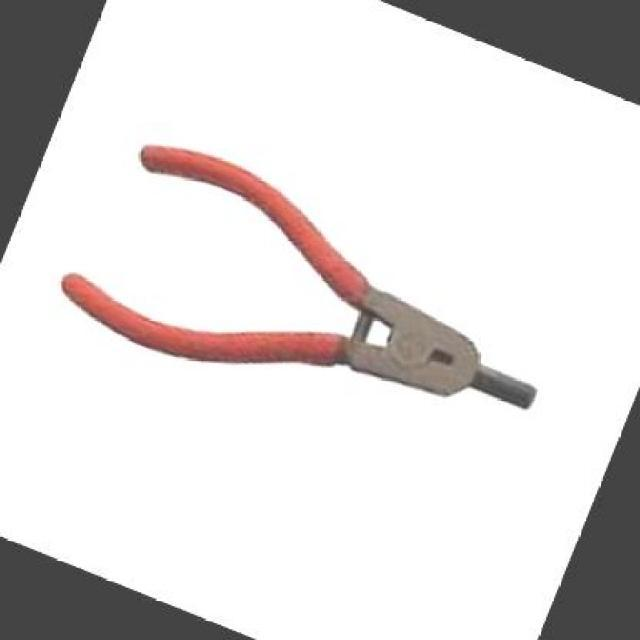pliers: (32, 103, 610, 534)
